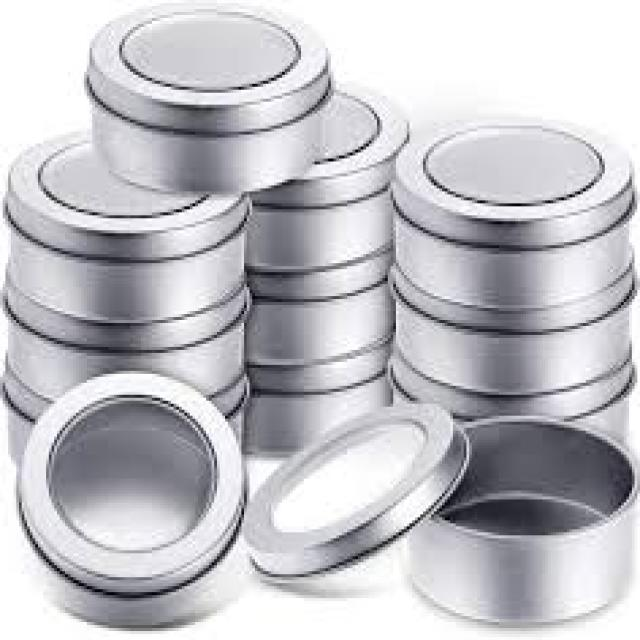metal: (19, 365, 244, 592), (388, 120, 635, 326), (404, 413, 635, 619), (5, 129, 247, 311), (81, 9, 328, 185), (239, 401, 467, 580), (385, 257, 635, 419), (244, 81, 407, 287), (0, 287, 244, 407), (19, 508, 239, 628), (6, 377, 242, 484), (391, 383, 627, 487), (244, 266, 391, 383), (242, 380, 391, 455)
